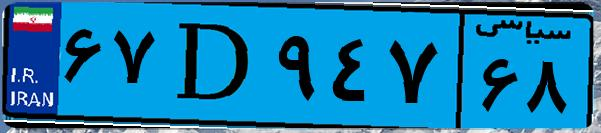4: (330, 28, 385, 110)
6: (57, 26, 110, 100), (475, 38, 525, 113)
7: (385, 28, 445, 110), (110, 28, 158, 98)
8: (525, 38, 570, 115)
9: (270, 28, 330, 110)
D: (158, 12, 270, 120)
